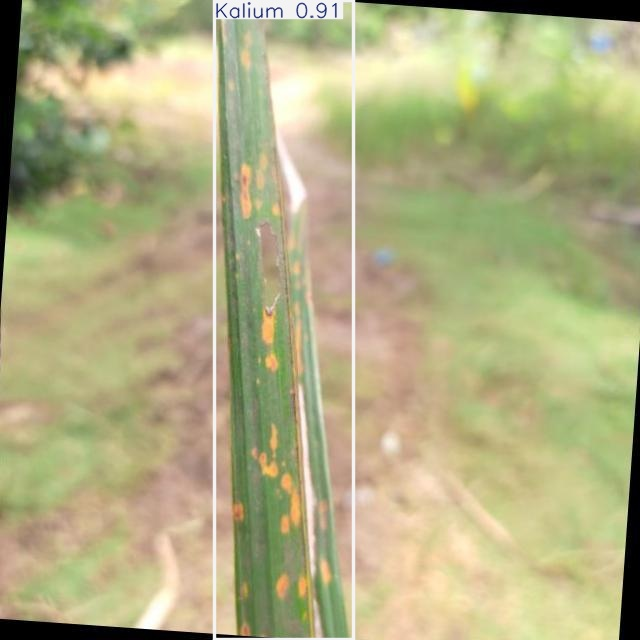Kalium: (215, 0, 354, 639)
